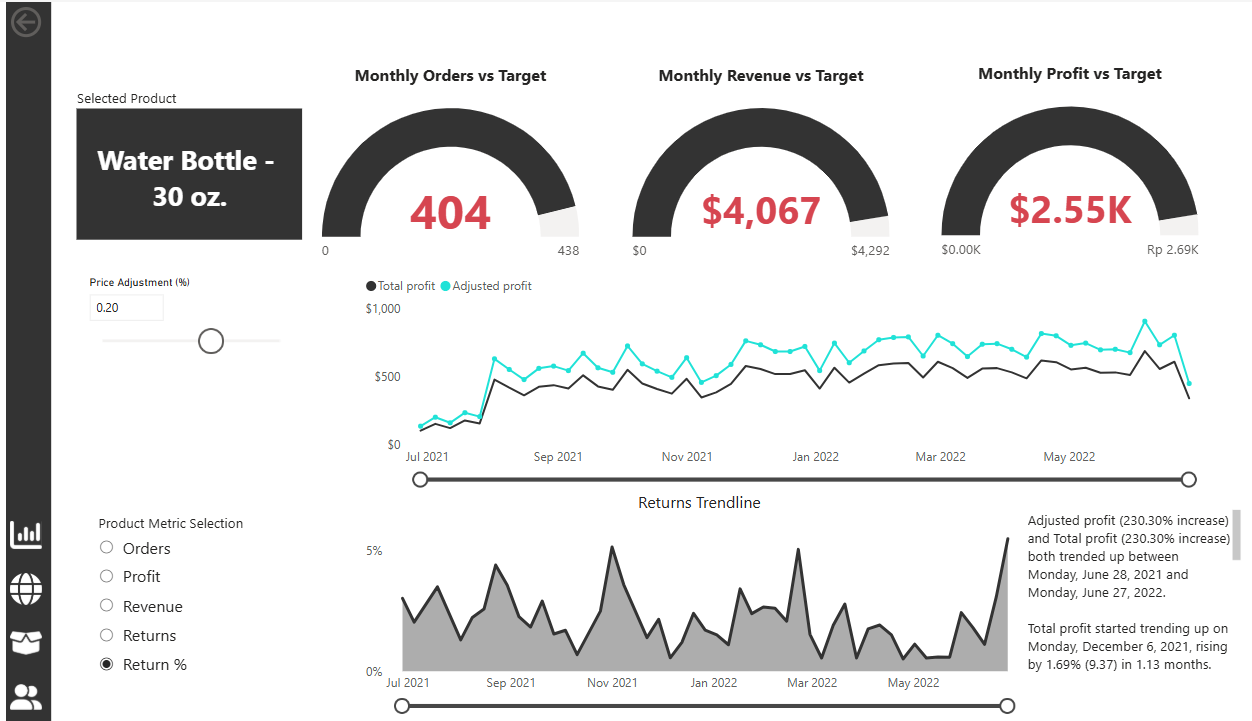

The page's visual inventory and layout, read from the dashboard file:
{"tool":"powerbi","page":{"name":"Product Detail","canvas":[1280,720],"ordinal":2},"visuals":[{"type":"shape","box":[0,0,45,720],"z":0},{"type":"gauge","title":"Monthly Orders vs Target","fields":{"Y":["Measure Table (2).Total Orders"],"MaxValue":["Measure Table (2).Order Target"]},"box":[309.9,61.1,266.5,223],"z":1000},{"type":"actionButton","box":[0,510.2,99.4,39.8],"z":1000,"group":"g1"},{"type":"gauge","title":"Monthly Revenue vs Target","fields":{"Y":["Measure Table (2).Total Revenue"],"MaxValue":["Measure Table (2).Revenue Target"]},"box":[618,61.1,266.5,223],"z":2000},{"type":"actionButton","box":[0,563.8,99.4,39.8],"z":2000,"group":"g1"},{"type":"gauge","title":"Monthly Profit vs Target","fields":{"Y":["Measure Table (2).Total profit"],"MaxValue":["Measure Table (2).Profit Target"]},"box":[926,60.5,266.5,223],"z":3000},{"type":"actionButton","box":[0,617.3,99.4,39.8],"z":3000,"group":"g1"},{"type":"lineChart","title":"Profit Trendline","fields":{"Category":["Calendar Lookup.Date Hierarchy.Start of Year","Calendar Lookup.Date Hierarchy.Start of Month","Calendar Lookup.Date Hierarchy.Start of Week"],"Y":["Measure Table (2).Total profit","Measure Table (2).Adjusted profit"]},"box":[352.8,263.4,856.4,223.6],"z":4000},{"type":"actionButton","box":[0,670.9,99.4,39.8],"z":4000,"group":"g1"},{"type":"areaChart","title":"Returns Trendline","fields":{"Y":["Measure Table (2).Total Returned"],"Category":["Calendar Lookup.Date Hierarchy.Start of Year","Calendar Lookup.Date Hierarchy.Start of Month","Calendar Lookup.Date Hierarchy.Start of Week"]},"box":[352.8,487,675.8,225.3],"z":5000},{"type":"card","fields":{"Values":["Min(Product Lookup.ProductName)"]},"box":[69.9,105.8,224.9,130.4],"z":6000},{"type":"textbox","box":[66.3,81.2,142.5,28.2],"z":7000},{"type":"actionButton","box":[0,0,100,40],"z":8000},{"type":"group","id":"g1","title":"Navigations","box":[0,510.2,99.4,200.4],"z":9000},{"type":"slicer","fields":{"Values":["Price Adjustment (%).Price Adjustment (%)"]},"box":[69.6,266.7,225.3,109.3],"z":10000},{"type":"slicer","fields":{"Values":["Product Metric Selection.Product Metric Selection"]},"box":[79.5,503.6,205.4,192.2],"z":11000},{"type":"textbox","box":[1012.1,500.3,222,190.5],"z":12000}]}

Visuals, with their boxes on the page's 1280x720 design canvas (x1, y1, x2, y2). These are canvas units, not pixel positions in the 1252x721 screenshot, which may show the page scaled, cropped or inside an application window:
shape: <region>0, 0, 45, 720</region>
"Monthly Orders vs Target" gauge: <region>310, 61, 576, 284</region>
actionButton: <region>0, 510, 99, 550</region>
"Monthly Revenue vs Target" gauge: <region>618, 61, 884, 284</region>
actionButton: <region>0, 564, 99, 604</region>
"Monthly Profit vs Target" gauge: <region>926, 60, 1192, 284</region>
actionButton: <region>0, 617, 99, 657</region>
"Profit Trendline" lineChart: <region>353, 263, 1209, 487</region>
actionButton: <region>0, 671, 99, 711</region>
"Returns Trendline" areaChart: <region>353, 487, 1029, 712</region>
card - Min(Product Lookup.ProductName): <region>70, 106, 295, 236</region>
textbox: <region>66, 81, 209, 109</region>
actionButton: <region>0, 0, 100, 40</region>
"Navigations" group: <region>0, 510, 99, 711</region>
slicer - Price Adjustment (%).Price Adjustment (%): <region>70, 267, 295, 376</region>
slicer - Product Metric Selection.Product Metric Selection: <region>80, 504, 285, 696</region>
textbox: <region>1012, 500, 1234, 691</region>
